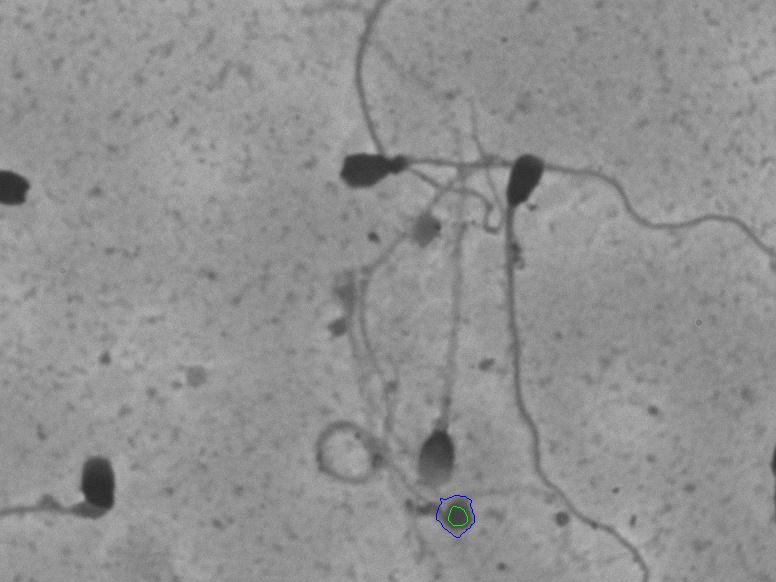Abnormal: (497, 137, 586, 529), (10, 431, 162, 556), (326, 138, 474, 223)
Normal: (409, 252, 477, 499)
